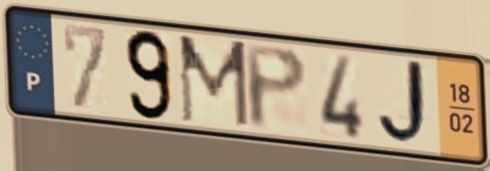4: (316, 50, 366, 142)
7: (60, 20, 109, 113)
9: (121, 26, 176, 124)
J: (376, 57, 436, 149)
M: (175, 32, 252, 132)
P: (241, 41, 311, 134)
